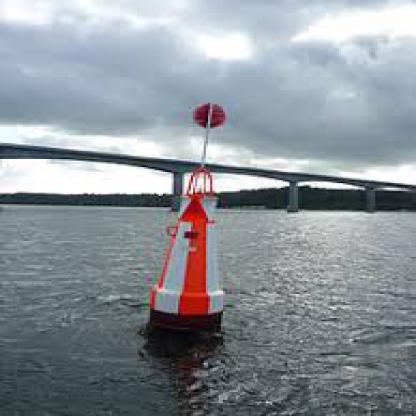buoy: (148, 95, 238, 318)
